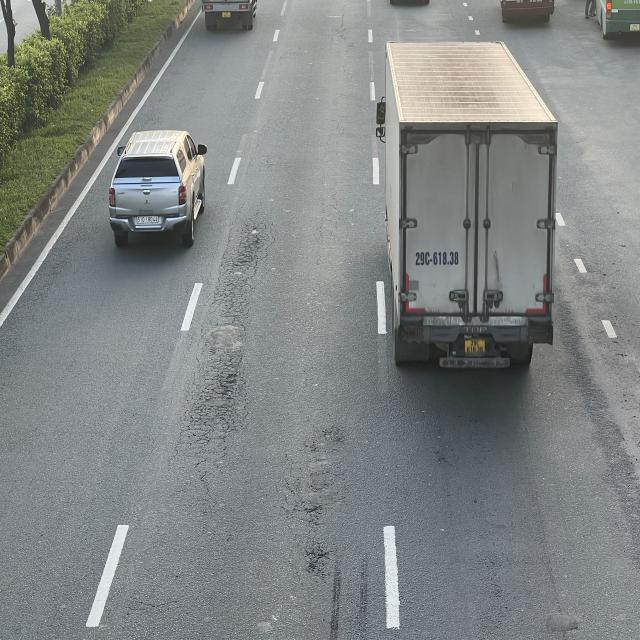car: (107, 132, 208, 252)
truck: (375, 34, 558, 370)
